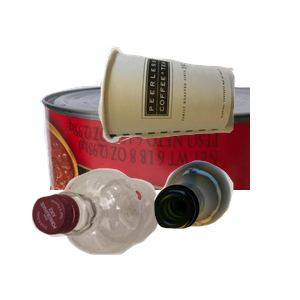glass: (151, 158, 300, 300)
metal: (37, 81, 277, 261)
plastic: (29, 166, 183, 300)
trash: (95, 44, 300, 180)
